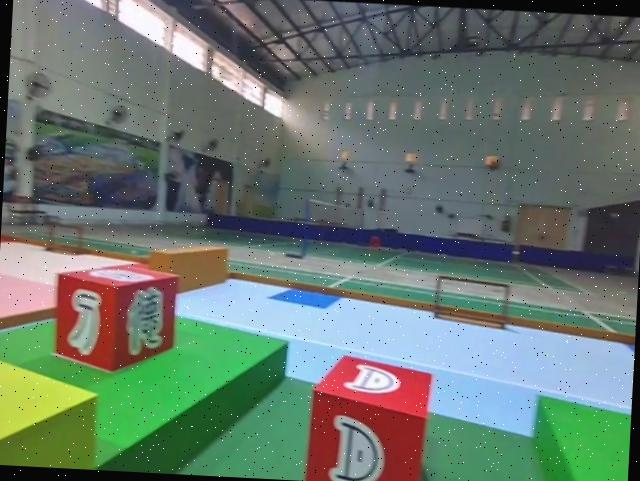R2 Fake: (50, 259, 178, 374)
R2 Real: (301, 348, 433, 481)
